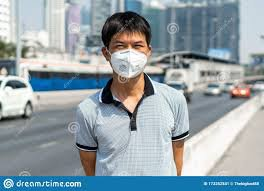mask: (95, 10, 156, 87)
